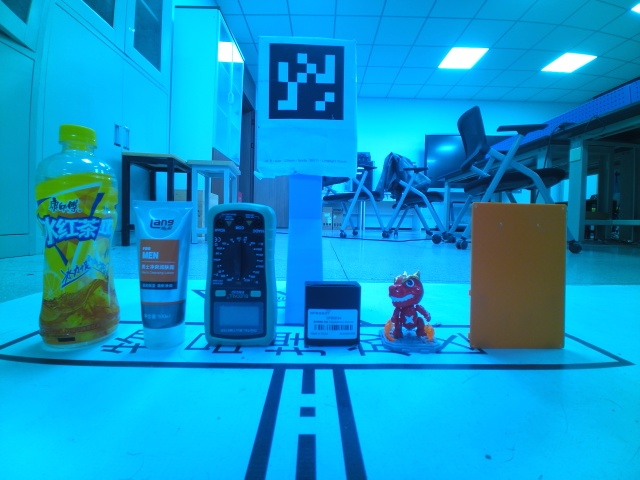banzi: (302, 279, 361, 348)
binghongcha: (380, 268, 445, 354)
dabao: (128, 200, 195, 350)
dianbiao: (33, 123, 123, 352)
hezi: (203, 201, 280, 348)
long: (469, 201, 567, 350)
